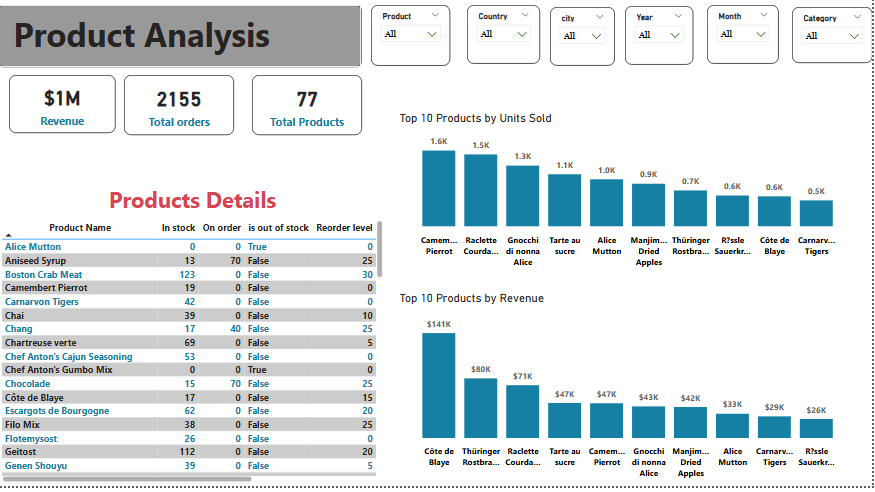

This screenshot's page, from the dashboard's own definition file:
{"tool":"powerbi","page":{"name":"Product Analysis ","canvas":[1280,720],"ordinal":3},"visuals":[{"type":"slicer","fields":{"Values":["dim_date.year"]},"box":[917.9,17.9,100,85.7],"z":0},{"type":"slicer","fields":{"Values":["dim_date.month_name"]},"box":[1037.5,16.1,105.4,85.7],"z":1000},{"type":"slicer","fields":{"Values":["dim_customers.country"]},"box":[685.7,16.1,107.1,85.7],"z":2000},{"type":"slicer","fields":{"Values":["dim_products.product_name"]},"box":[546.4,16.1,116.1,89.3],"z":3000},{"type":"slicer","fields":{"Values":["dim_employees.city"]},"box":[807.1,19.6,94.6,85.7],"z":4000},{"type":"textbox","box":[0,15.7,531.9,90.7],"z":5000},{"type":"slicer","fields":{"Values":["dim_category.description"]},"box":[1162.5,19.6,117.9,82.1],"z":6000},{"type":"clusteredColumnChart","title":"Top 10 Products by Revenue","fields":{"Category":["dim_products.product_name"],"Y":["-Measures.Revenue"]},"box":[582.1,433.9,669.6,282.1],"z":7000},{"type":"clusteredColumnChart","title":"Top 10 Products by Units Sold","fields":{"Category":["dim_products.product_name"],"Y":["-Measures.Total Unit Sold"]},"box":[582.1,171.4,669.6,235.7],"z":8000},{"type":"tableEx","fields":{"Values":["dim_products.product_name","dim_products.unitsinstock","dim_products.unitsonorder","dim_products.is_out_of_stock","dim_products.reorder_level","dim_products.needs_reorder","-Measures.Total Unit Sold","-Measures.Revenue"]},"box":[0,326.8,567.9,392.9],"z":9000},{"type":"card","fields":{"Values":["-Measures.Total orders"]},"box":[184.7,118.1,161.1,87.5],"z":9001},{"type":"card","fields":{"Values":["-Measures.Total Revenue"]},"box":[16.7,118.1,155.6,84.7],"z":9002},{"type":"card","fields":{"Values":["-Measures.Total Products"]},"box":[371.4,117.9,160.7,87.5],"z":9003},{"type":"textbox","box":[133.9,273.2,300,53.6],"z":9004}]}

Visuals, with their boxes in screenshot pixels (x1, y1, x2, y2), scaled from the page's 1280x720 canvas onto the 875x492 screenshot:
slicer - dim_date.year: left=627, top=12, right=696, bottom=71
slicer - dim_date.month_name: left=709, top=11, right=781, bottom=70
slicer - dim_customers.country: left=469, top=11, right=542, bottom=70
slicer - dim_products.product_name: left=374, top=11, right=453, bottom=72
slicer - dim_employees.city: left=552, top=13, right=616, bottom=72
textbox: left=0, top=11, right=364, bottom=73
slicer - dim_category.description: left=795, top=13, right=874, bottom=69
"Top 10 Products by Revenue" clusteredColumnChart: left=398, top=296, right=856, bottom=489
"Top 10 Products by Units Sold" clusteredColumnChart: left=398, top=117, right=856, bottom=278
tableEx - dim_products.product_name x dim_products.unitsinstock: left=0, top=223, right=388, bottom=491
card - -Measures.Total orders: left=126, top=81, right=236, bottom=140
card - -Measures.Total Revenue: left=11, top=81, right=118, bottom=139
card - -Measures.Total Products: left=254, top=81, right=364, bottom=140
textbox: left=92, top=187, right=297, bottom=223
